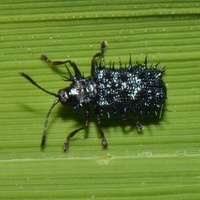insect: (19, 41, 166, 151)
